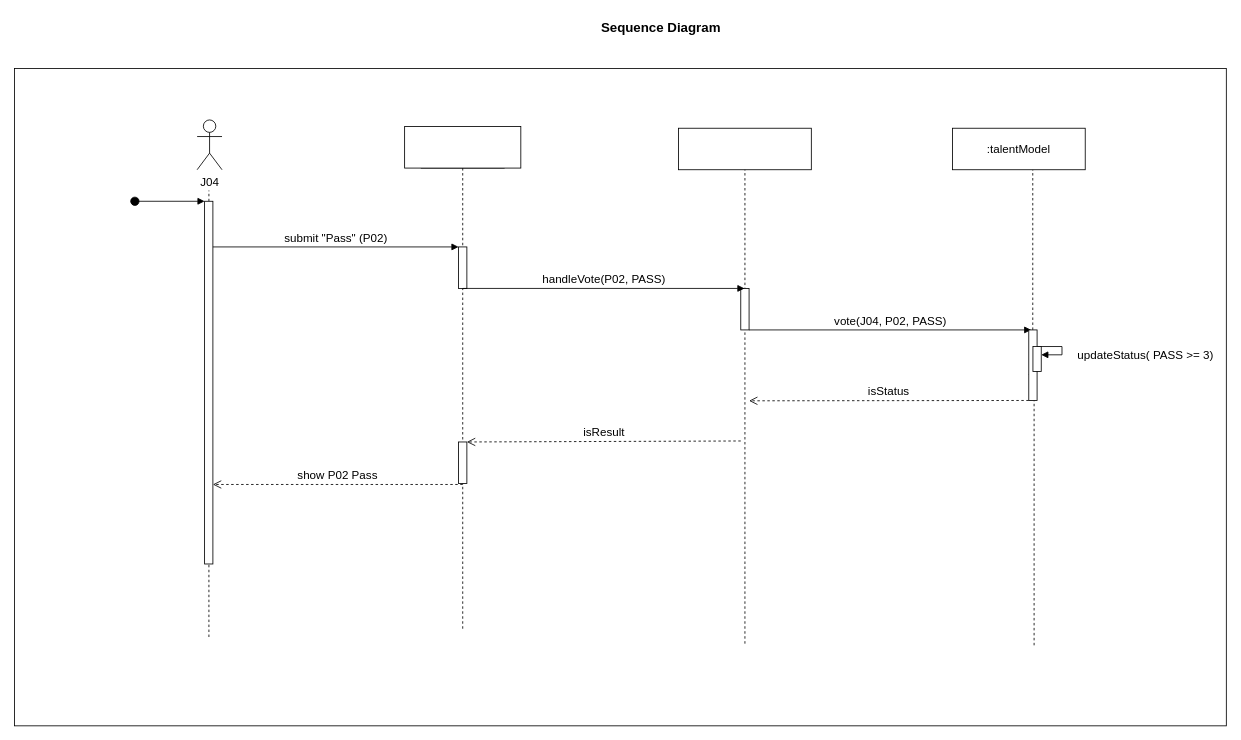
This 1241x740 diagram has some shape labels left out. The centre of each missing label's shape, as x and y in pixels:
":ContestantList View" goes at [462,147].
":useTalentController" goes at [744,148].
